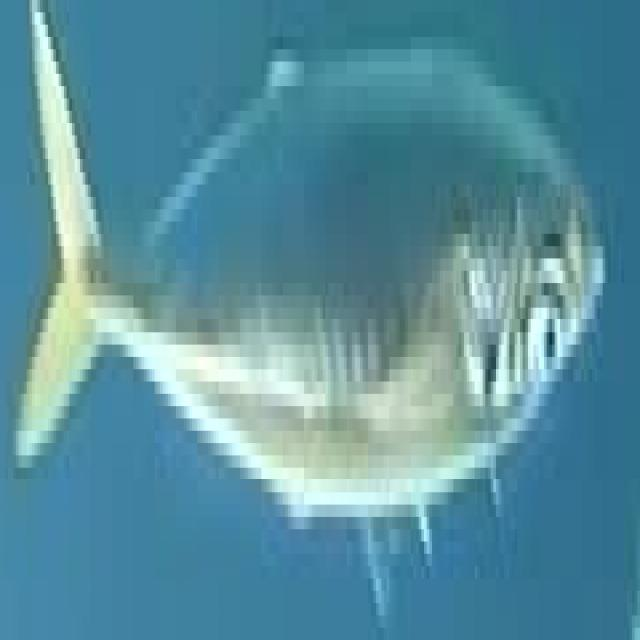fish: (0, 1, 638, 628)
